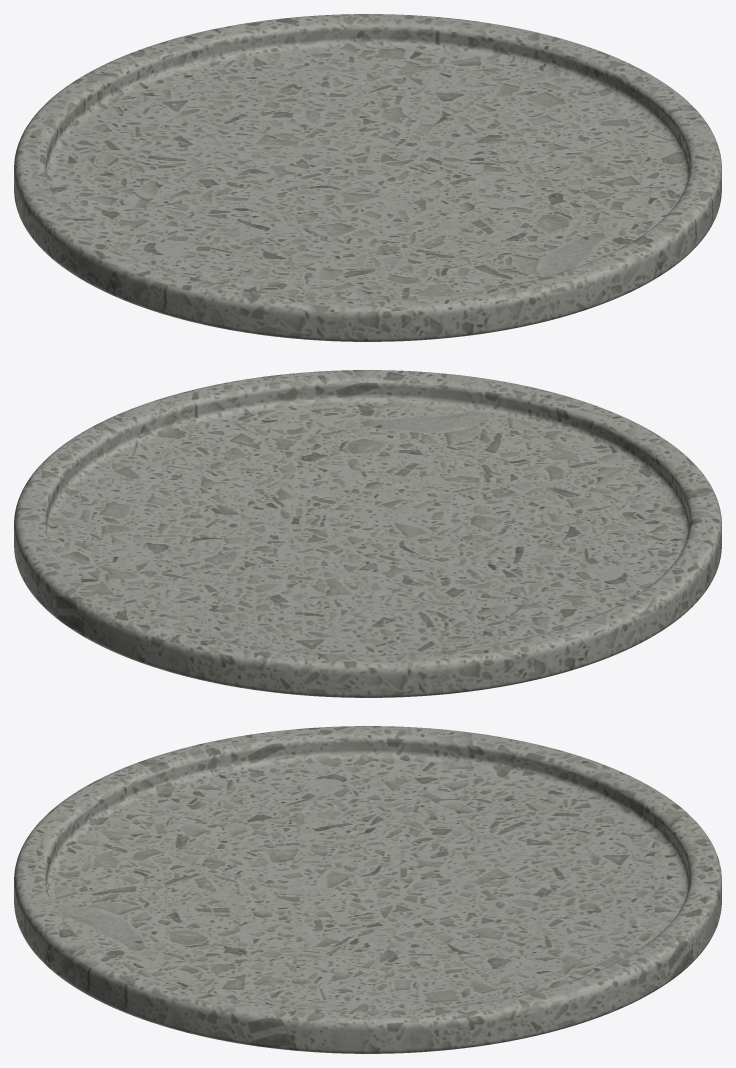
The model's file is plato.glb.
3 renders of one model, top to bottom at view 1: azimuth 30°, elevation 25°; view 2: azimuth 150°, elevation 25°; view 3: azimuth 270°, elevation 25°, orthographic.
Parts seen in each view (by area): view 1: Terrazo - plato; view 2: Terrazo - plato; view 3: Terrazo - plato.
Part boxes in pixels (box(x1,y1,x2,y2)): Terrazo - plato: box(14, 14, 721, 341); Terrazo - plato: box(14, 370, 721, 697); Terrazo - plato: box(14, 726, 721, 1053).
Size of the model in its own units: 0.22 by 0.0114 by 0.22.
1 material, 1 textured.
